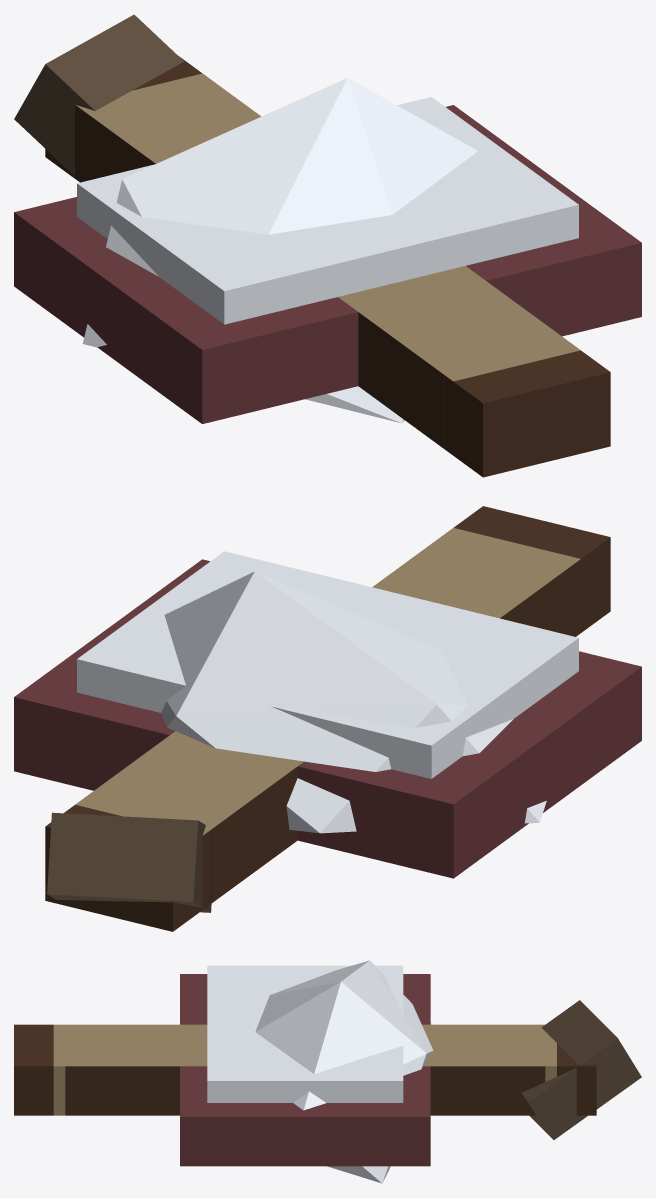
The model's file is debris_wood.glb.
3 views of the same model, one above another, from view 1: azimuth 30°, elevation 25°; view 2: azimuth 150°, elevation 25°; view 3: azimuth 270°, elevation 25° (orthographic). The views are drawn at different scales.
Parts seen in each view (by area): view 1: tile_1, snow_1, plank_2, plank_3, plank_1; view 2: tile_1, snow_1, plank_2, plank_3, plank_1; view 3: tile_1, plank_1, snow_1, plank_2, plank_3.
Boxes of the visible parts, left/top/right/bottom form: tile_1: left=14, top=97, right=641, bottom=423; snow_1: left=82, top=78, right=477, bottom=423; plank_2: left=76, top=73, right=580, bottom=381; plank_3: left=17, top=56, right=610, bottom=477; plank_1: left=14, top=14, right=444, bottom=448; tile_1: left=14, top=551, right=641, bottom=878; snow_1: left=161, top=571, right=546, bottom=833; plank_2: left=47, top=528, right=580, bottom=901; plank_3: left=45, top=506, right=610, bottom=931; plank_1: left=47, top=565, right=572, bottom=912; tile_1: left=180, top=965, right=430, bottom=1166; plank_1: left=65, top=1002, right=631, bottom=1139; snow_1: left=255, top=960, right=433, bottom=1183; plank_2: left=53, top=1024, right=640, bottom=1139; plank_3: left=14, top=1000, right=641, bottom=1124.
Bounding box in the file's own units: 0.6324 × 0.3634 × 1.15.
1 material, 1 textured.
